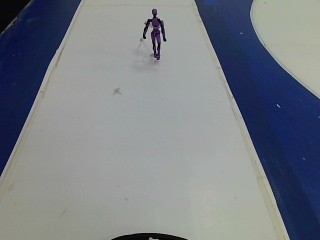pedestrian: (141, 6, 166, 62)
